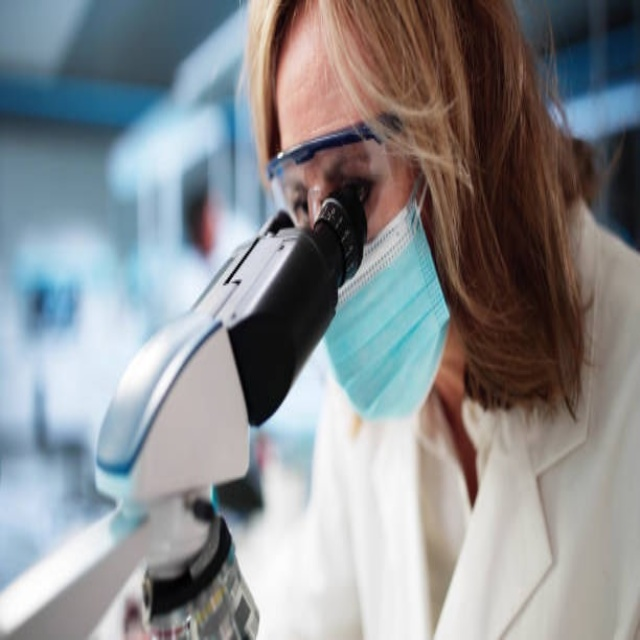Gafas: (266, 121, 412, 240)
Mascara: (318, 167, 453, 424)
